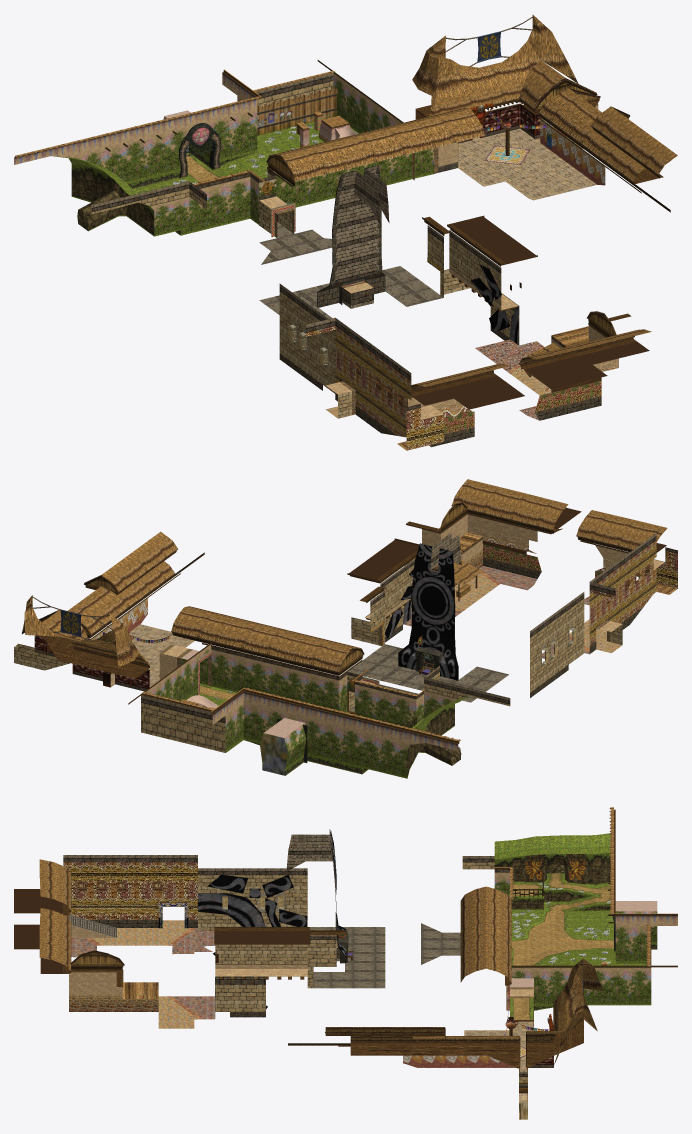
Rendered from clocktown_north.dae.
The picture shows the model from 3 angles, top to bottom: view 1: azimuth 30°, elevation 25°; view 2: azimuth 150°, elevation 25°; view 3: azimuth 270°, elevation 25°; orthographic projection. The views are drawn at different scales.
Visible parts, largest first — view 1: north_clocktown; view 2: north_clocktown; view 3: north_clocktown.
Boxes of the visible parts, x1,y1,x2,y2 form: north_clocktown: (14, 14, 677, 450); north_clocktown: (14, 479, 677, 778); north_clocktown: (14, 807, 677, 1119).
Size of the model in its own units: 38.05 by 44.54 by 10.35.
Materials: 42 (42 with a texture image).
